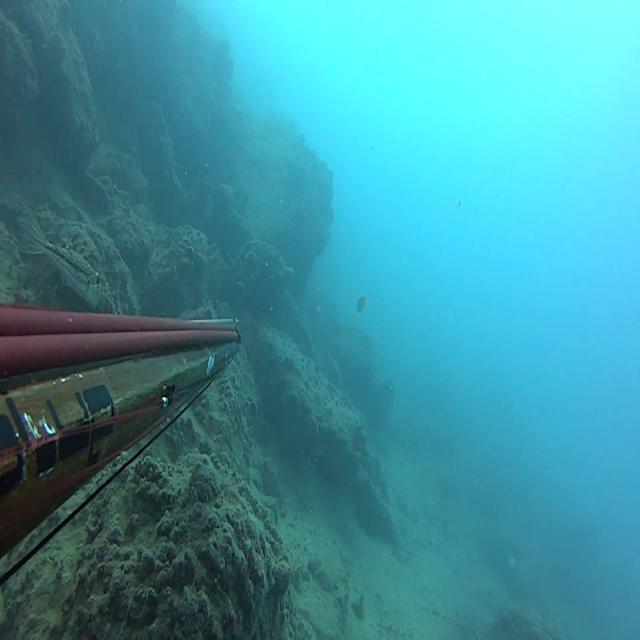Balon Baligi: (19, 215, 102, 308), (358, 296, 365, 312)
